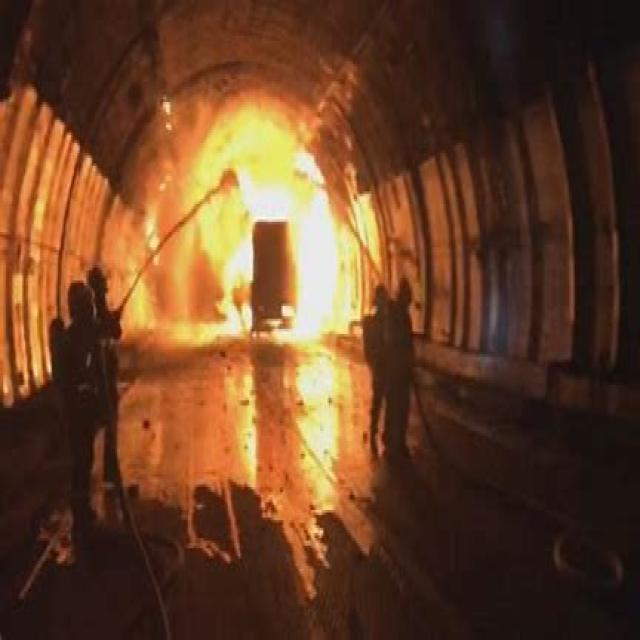fire: (106, 211, 252, 341), (195, 103, 314, 214), (289, 195, 361, 335)
